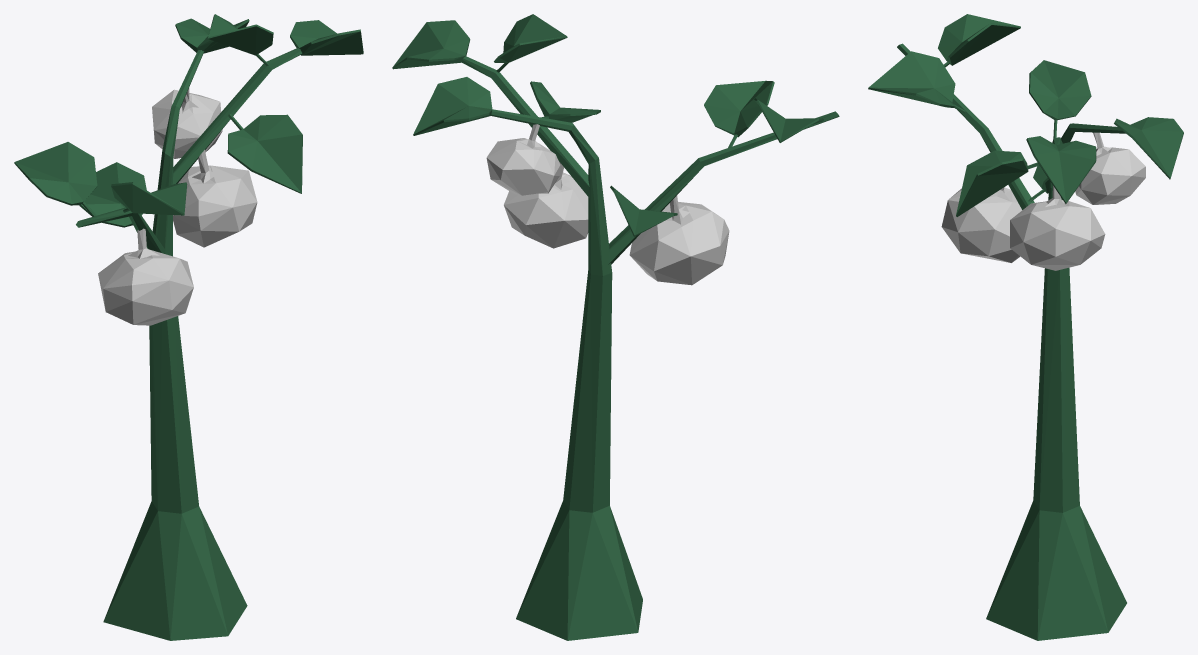
File: mod_vg_tomatoM.fbx
The picture shows the model from 3 angles, left to right: view 1: azimuth 30°, elevation 25°; view 2: azimuth 150°, elevation 25°; view 3: azimuth 270°, elevation 25°; orthographic projection. The views are drawn at different scales.
Parts seen in each view (by area): view 1: TigeTomate.001; view 2: TigeTomate.001; view 3: TigeTomate.001.
Boxes of the visible parts, x1,y1,x2,y2 form: TigeTomate.001: (14, 14, 363, 640); TigeTomate.001: (392, 14, 839, 640); TigeTomate.001: (868, 14, 1183, 640).
Bounding box in the file's own units: 59.77 × 86.4 × 43.32.
